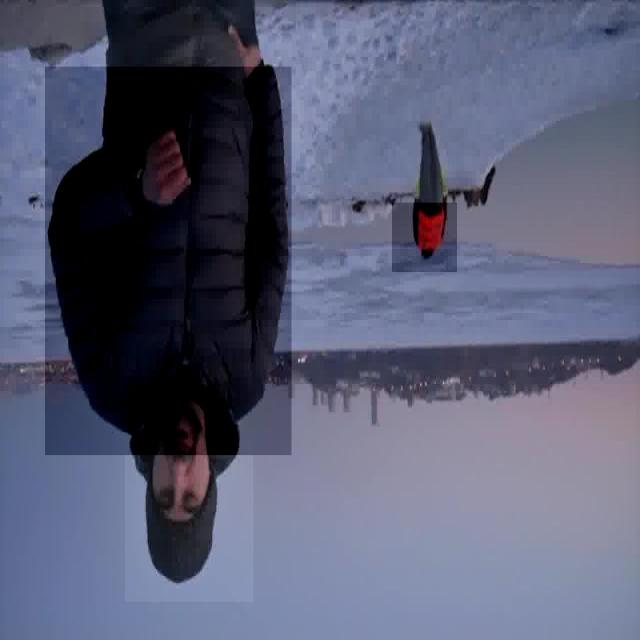Helmet: (45, 67, 291, 455), (125, 428, 253, 602)
Safety Vest: (392, 203, 457, 272)
